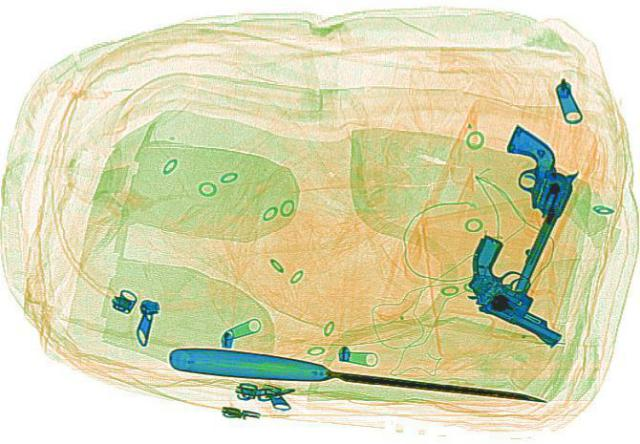Gun: (436, 121, 598, 293), (421, 231, 614, 346)
Knife: (165, 341, 551, 408)
